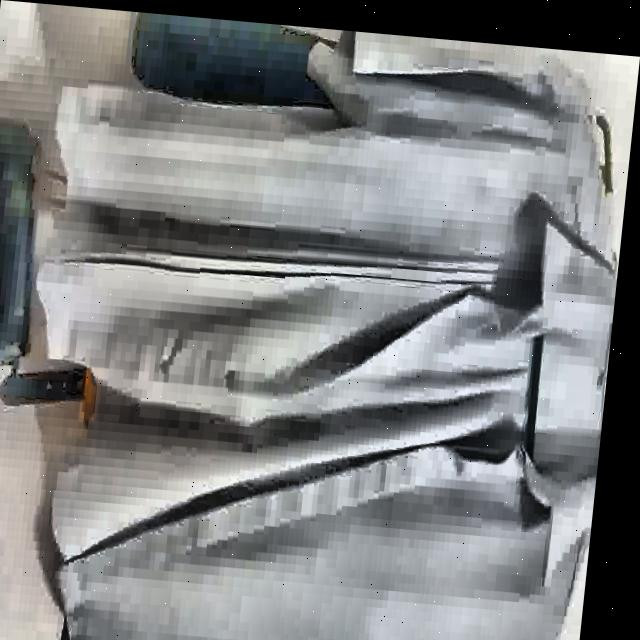clothes: (0, 6, 640, 640)
